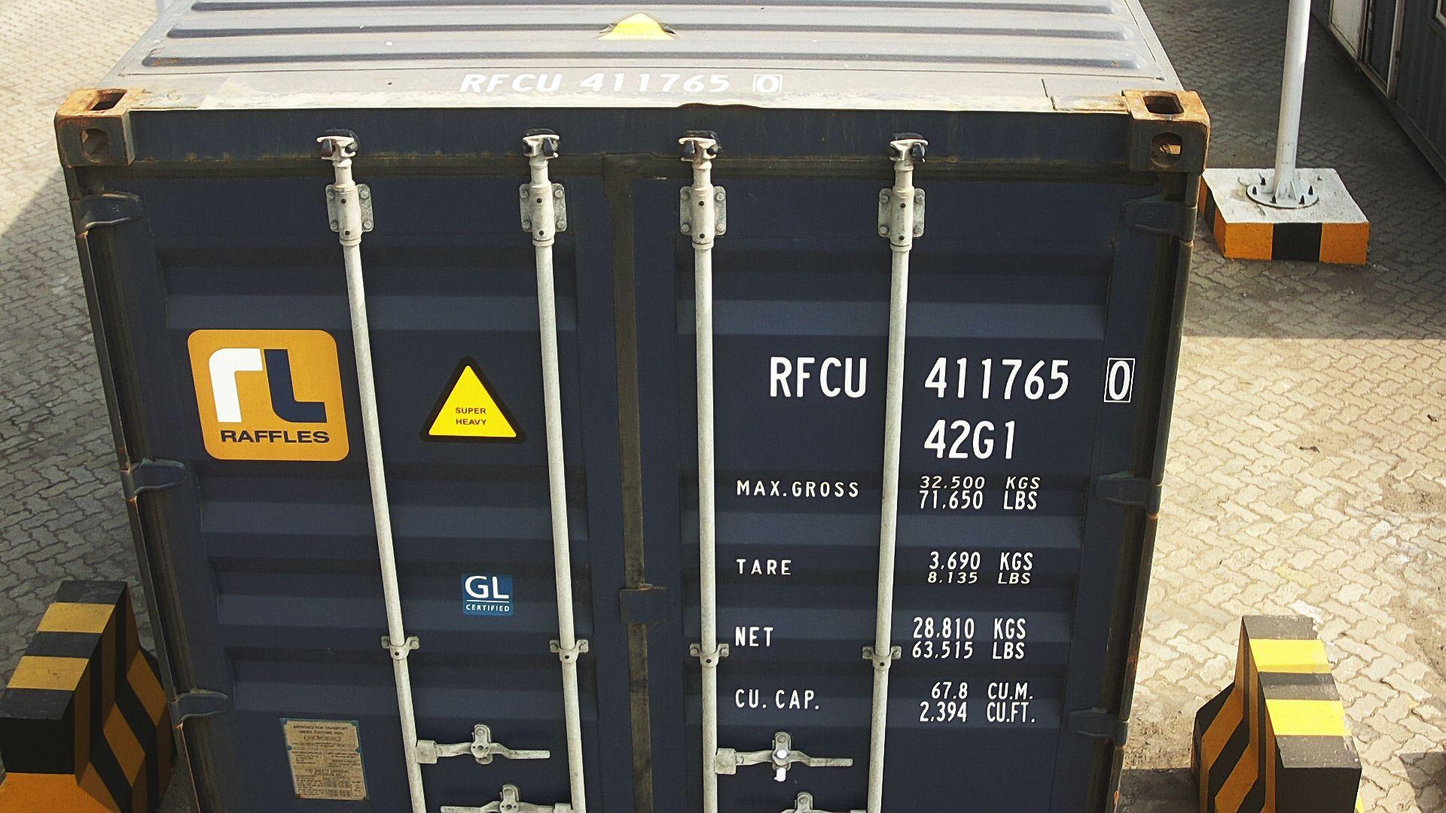container-numbers: (760, 352, 1142, 407), (452, 67, 792, 95), (921, 415, 1022, 461)
